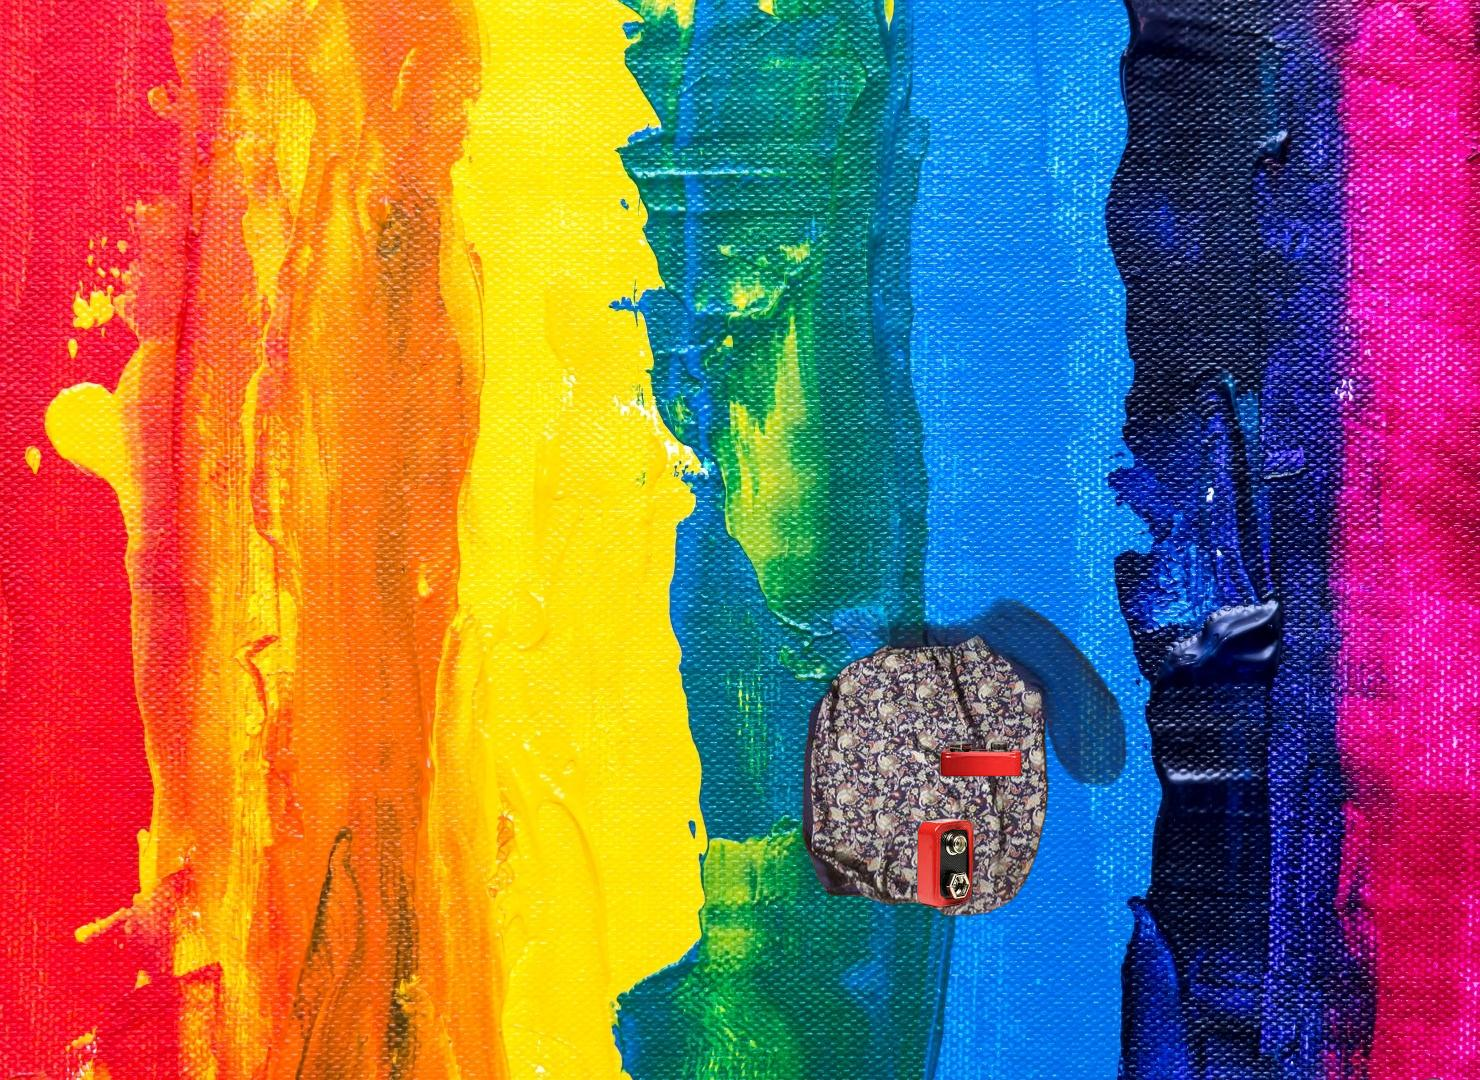battery: (837, 738, 1024, 910)
clothes: (729, 534, 1128, 931)
shoes: (1343, 1070, 1480, 1080)
